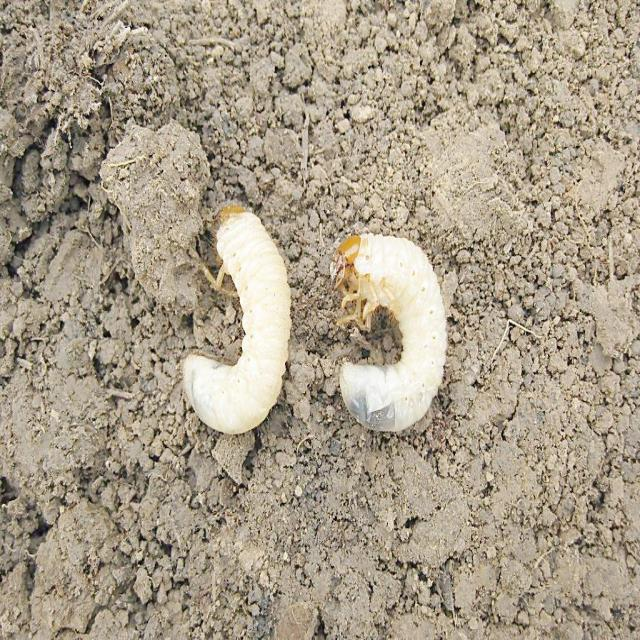Grub-Adult-: (169, 176, 314, 444), (328, 163, 457, 453)
